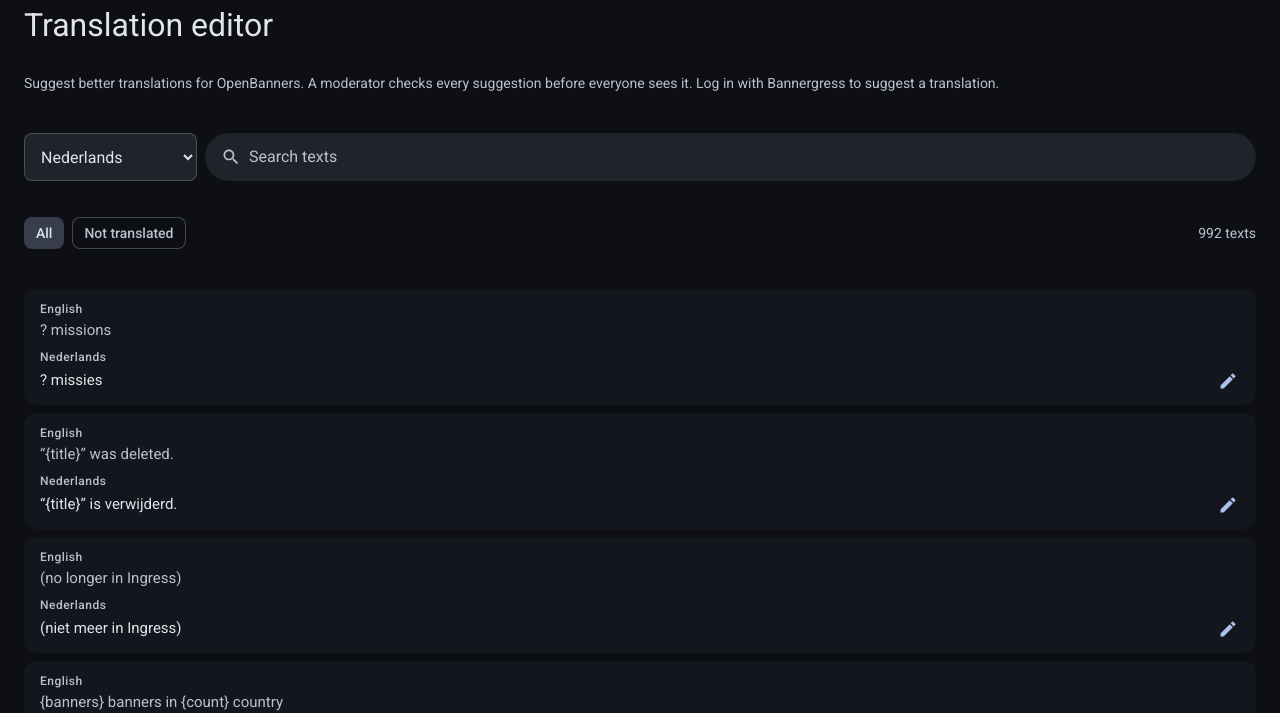
translation editor › shows approved overrides as the current translation
This screenshot has width=1280, height=713.
Type "Settings" into the search field labelled "Search texts" at (748, 157), box [245,133,1252,181]
(page scrolled)
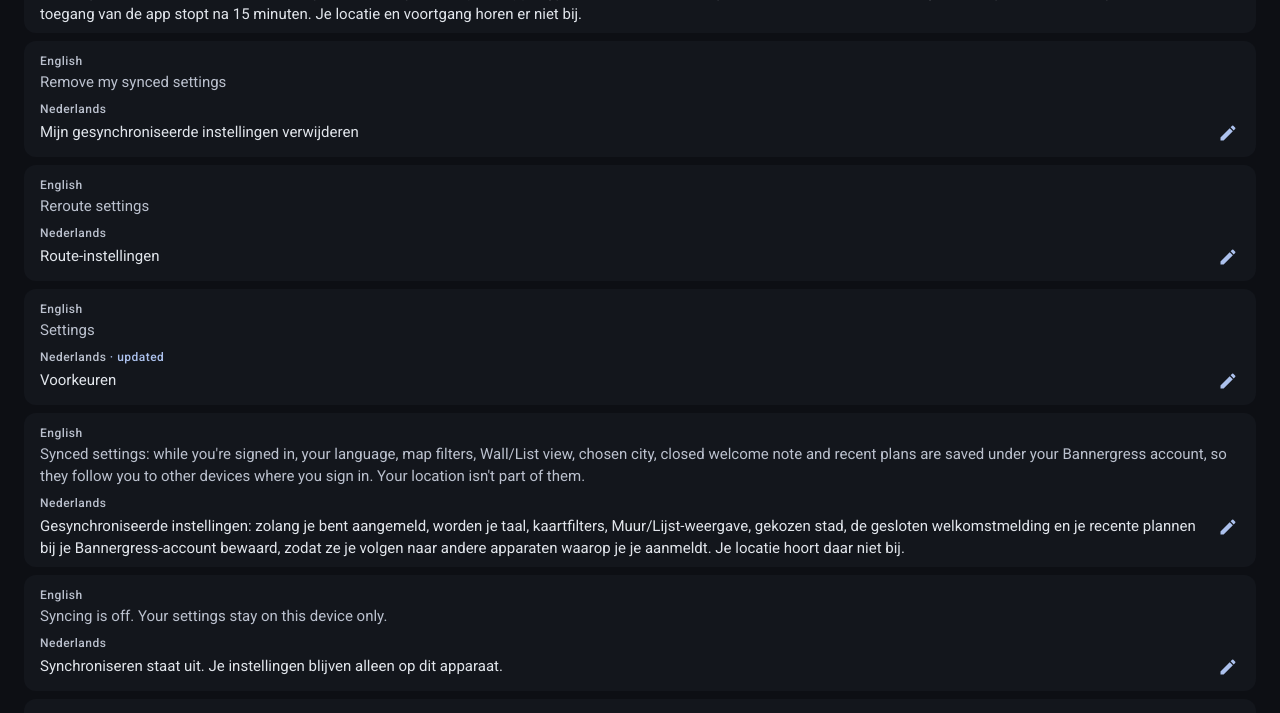
Expected: the text "Voorkeuren" is shown, [40,371,116,389]
Expected: the text "· updated" is shown, [106,350,164,364]
